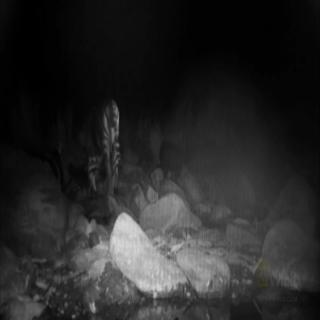Tiger: (83, 85, 133, 203)
